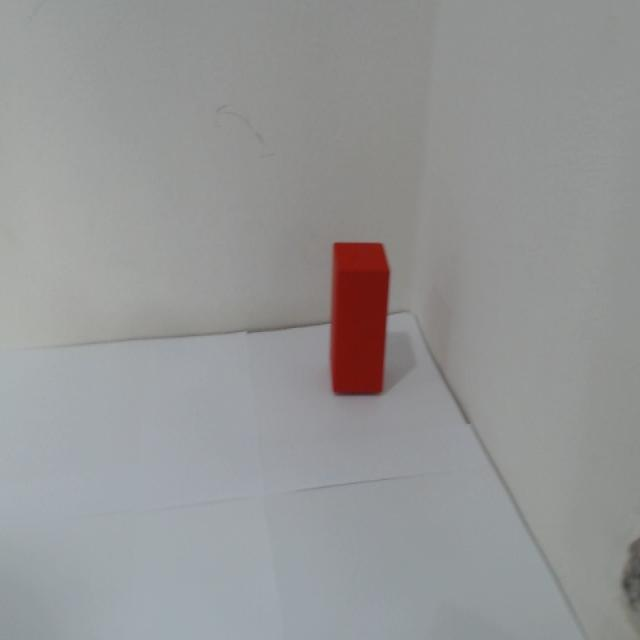cube: (327, 238, 395, 397)
